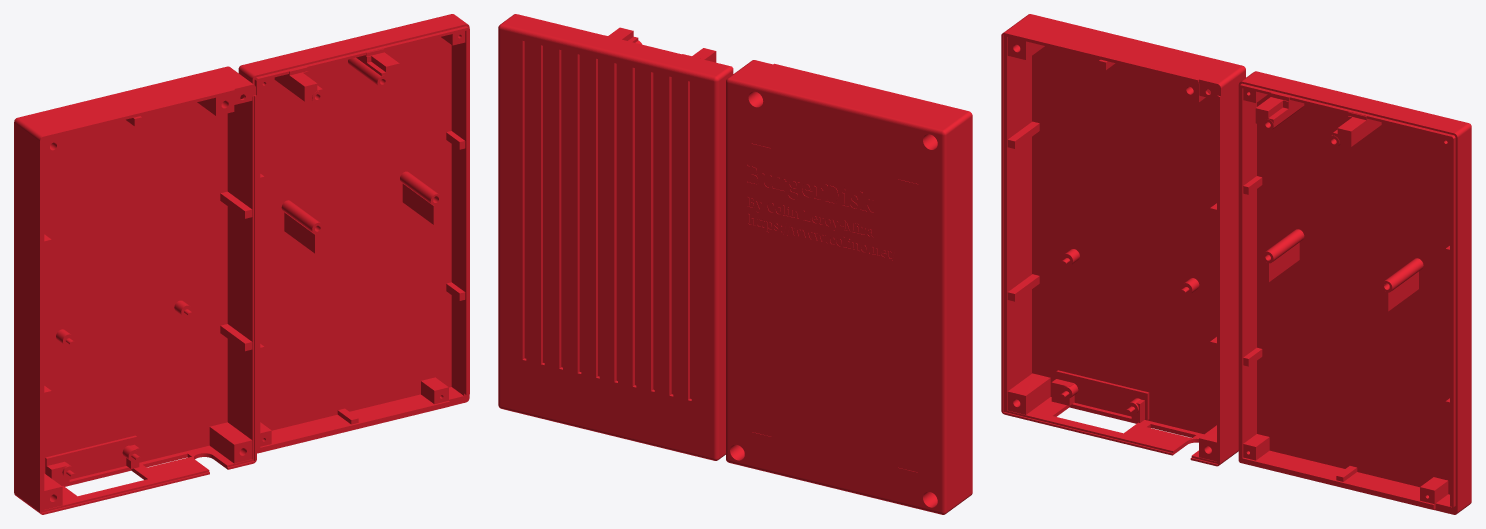
File: tinker.obj
3 views of the same model, side by side, from view 1: azimuth 30°, elevation 25°; view 2: azimuth 150°, elevation 25°; view 3: azimuth 330°, elevation 25° (orthographic).
Visible parts, largest first — view 1: obj_0, obj_1; view 2: obj_0, obj_1; view 3: obj_0, obj_1.
Part boxes in pixels (x1,y1,x2,y2): obj_0: [14, 66, 256, 514]; obj_1: [238, 14, 469, 453]; obj_0: [726, 60, 972, 514]; obj_1: [498, 14, 733, 460]; obj_0: [1001, 14, 1245, 466]; obj_1: [1238, 71, 1471, 514].
Bounding box in the file's own units: 244 × 201 × 32.52.
